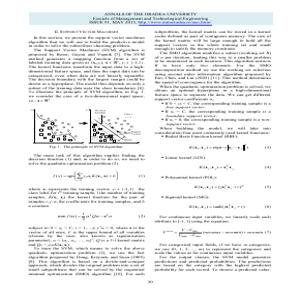diagram: (26, 105, 143, 152)
text: (150, 30, 278, 274), (24, 154, 148, 279), (22, 29, 147, 102), (85, 11, 216, 28)
